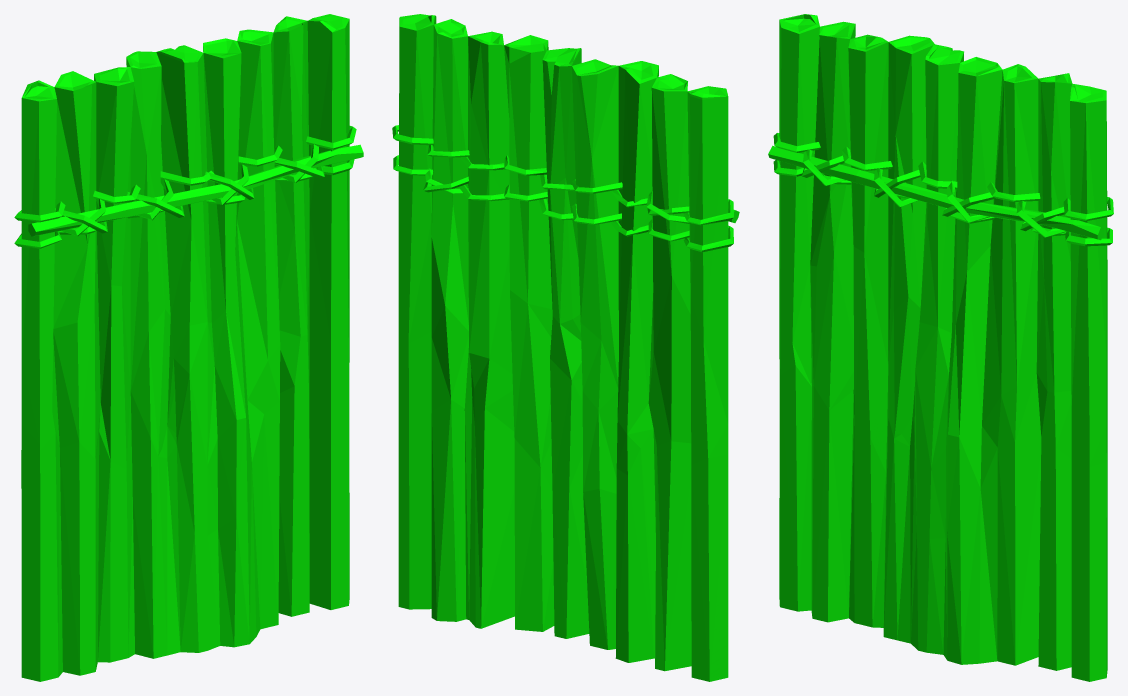
File: SM_Palisade_3m_Short_A.fbx
3 renders of one model, left to right at view 1: azimuth 30°, elevation 25°; view 2: azimuth 150°, elevation 25°; view 3: azimuth 330°, elevation 25°, orthographic.
Visible parts, largest first — view 1: palisade-3m-short-a; view 2: palisade-3m-short-a; view 3: palisade-3m-short-a.
Part boxes in pixels (x1,y1,x2,y2): palisade-3m-short-a: (14, 14, 363, 681); palisade-3m-short-a: (392, 14, 739, 681); palisade-3m-short-a: (768, 14, 1113, 681).
Bounding box in the file's own units: 3.13 × 5.13 × 0.6558.
